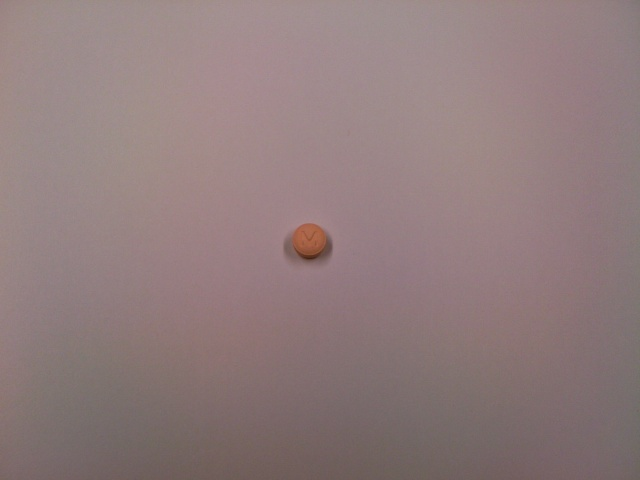M: (299, 230, 321, 251)
